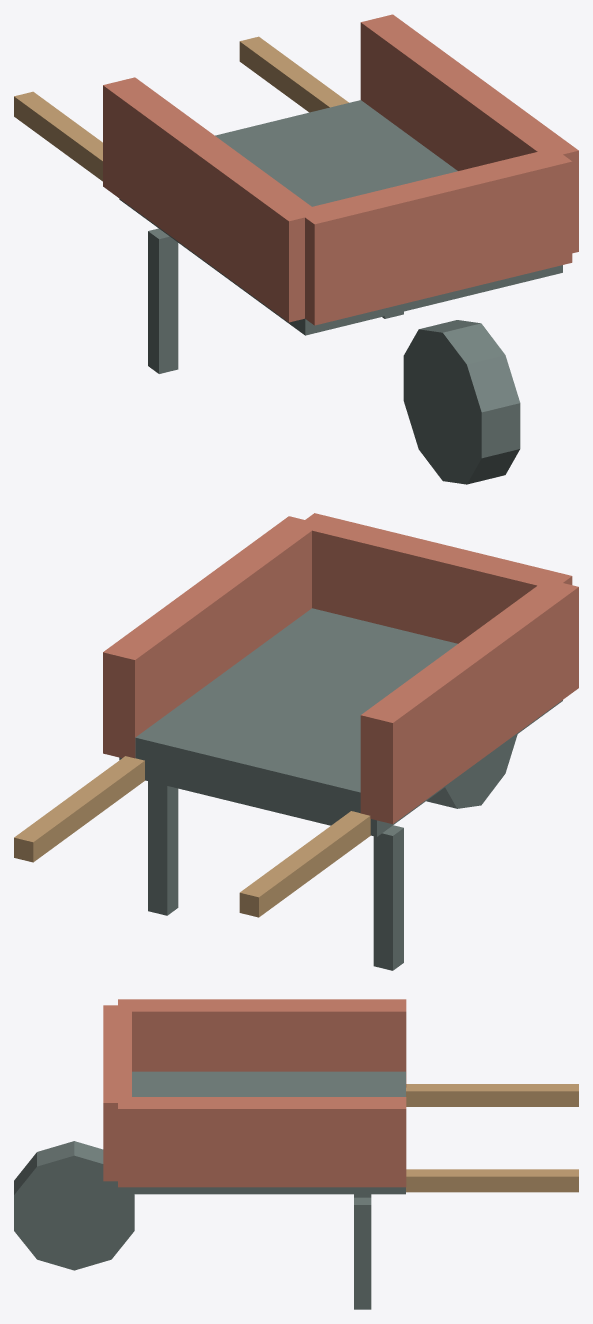
Rendered from cozy-farm-and-homestead-wheelbarrow-93e7d91e__19401.glb.
3 views of the same model, one above another, from view 1: azimuth 30°, elevation 25°; view 2: azimuth 150°, elevation 25°; view 3: azimuth 270°, elevation 25° (orthographic). The views are drawn at different scales.
Visible parts, largest first — view 1: wheelbarrow; view 2: wheelbarrow; view 3: wheelbarrow.
Boxes of the visible parts, <box> form: wheelbarrow: <box>14,14,578,484</box>; wheelbarrow: <box>14,513,578,970</box>; wheelbarrow: <box>14,999,578,1309</box>.
Bounding box in the file's own units: 0.9 × 0.8 × 1.96.
